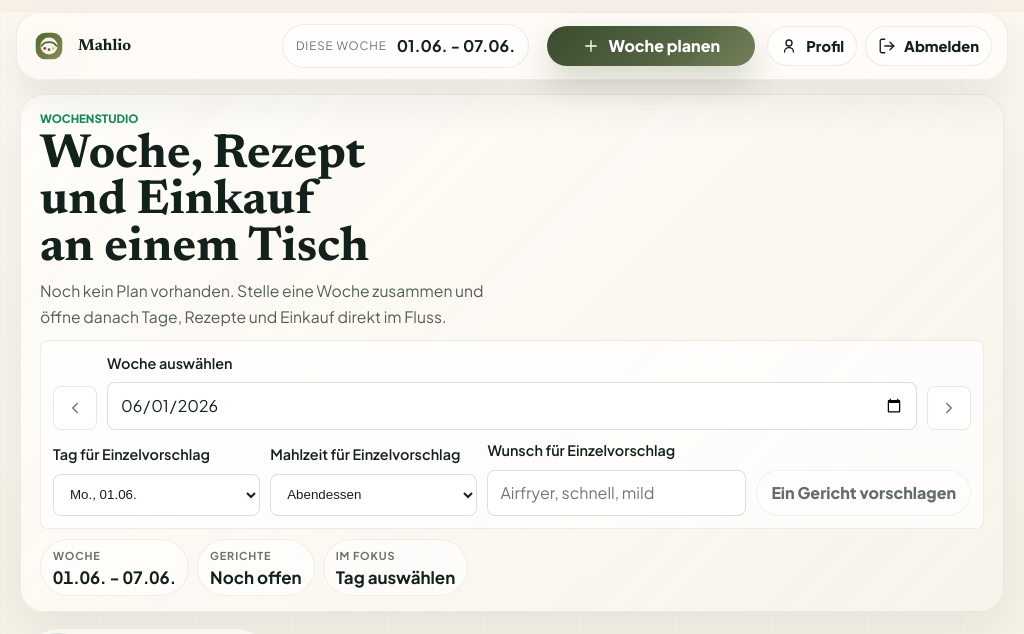
Test case: Mealplanner app › logs out and returns to the login page
Click the button "Abmelden" at coordinates (929, 46), box x1=865 y1=26 x2=992 y2=66
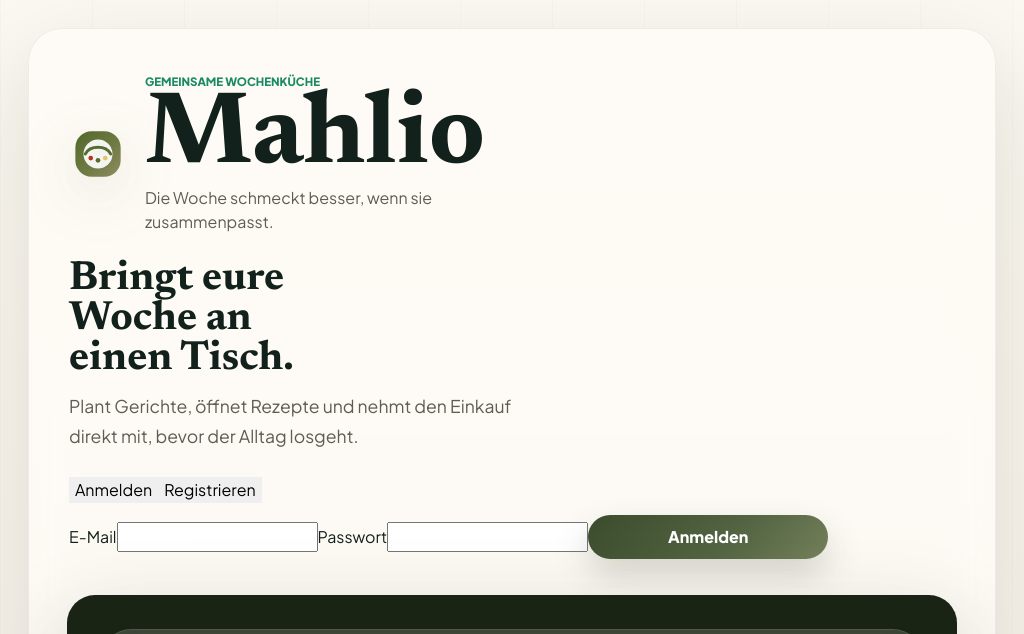
Expected: the tab "Anmelden" is shown, x1=69 y1=477 x2=158 y2=503
